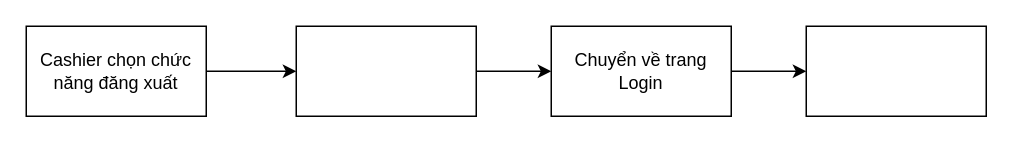
The diagram is 1013 pixels wide and 143 high, and some of its shapes have lost their labels. Here are the shapes that lost their labels. From the top down, the centre of each, then its label:
At pixel 385 70: "Hệ thống xóa thông tin đăng nhập".
At pixel 895 70: "Kết thúc".
